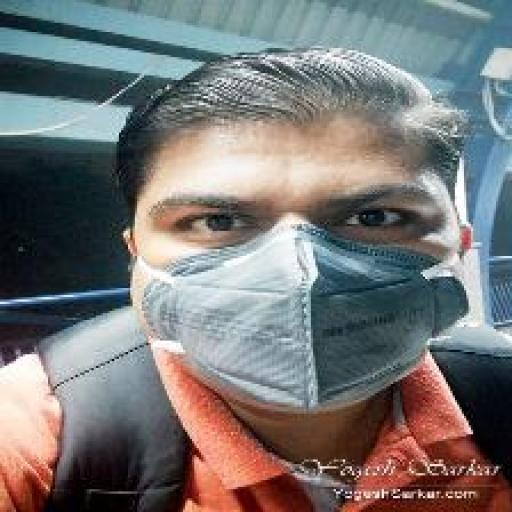mask: (134, 221, 477, 408)
